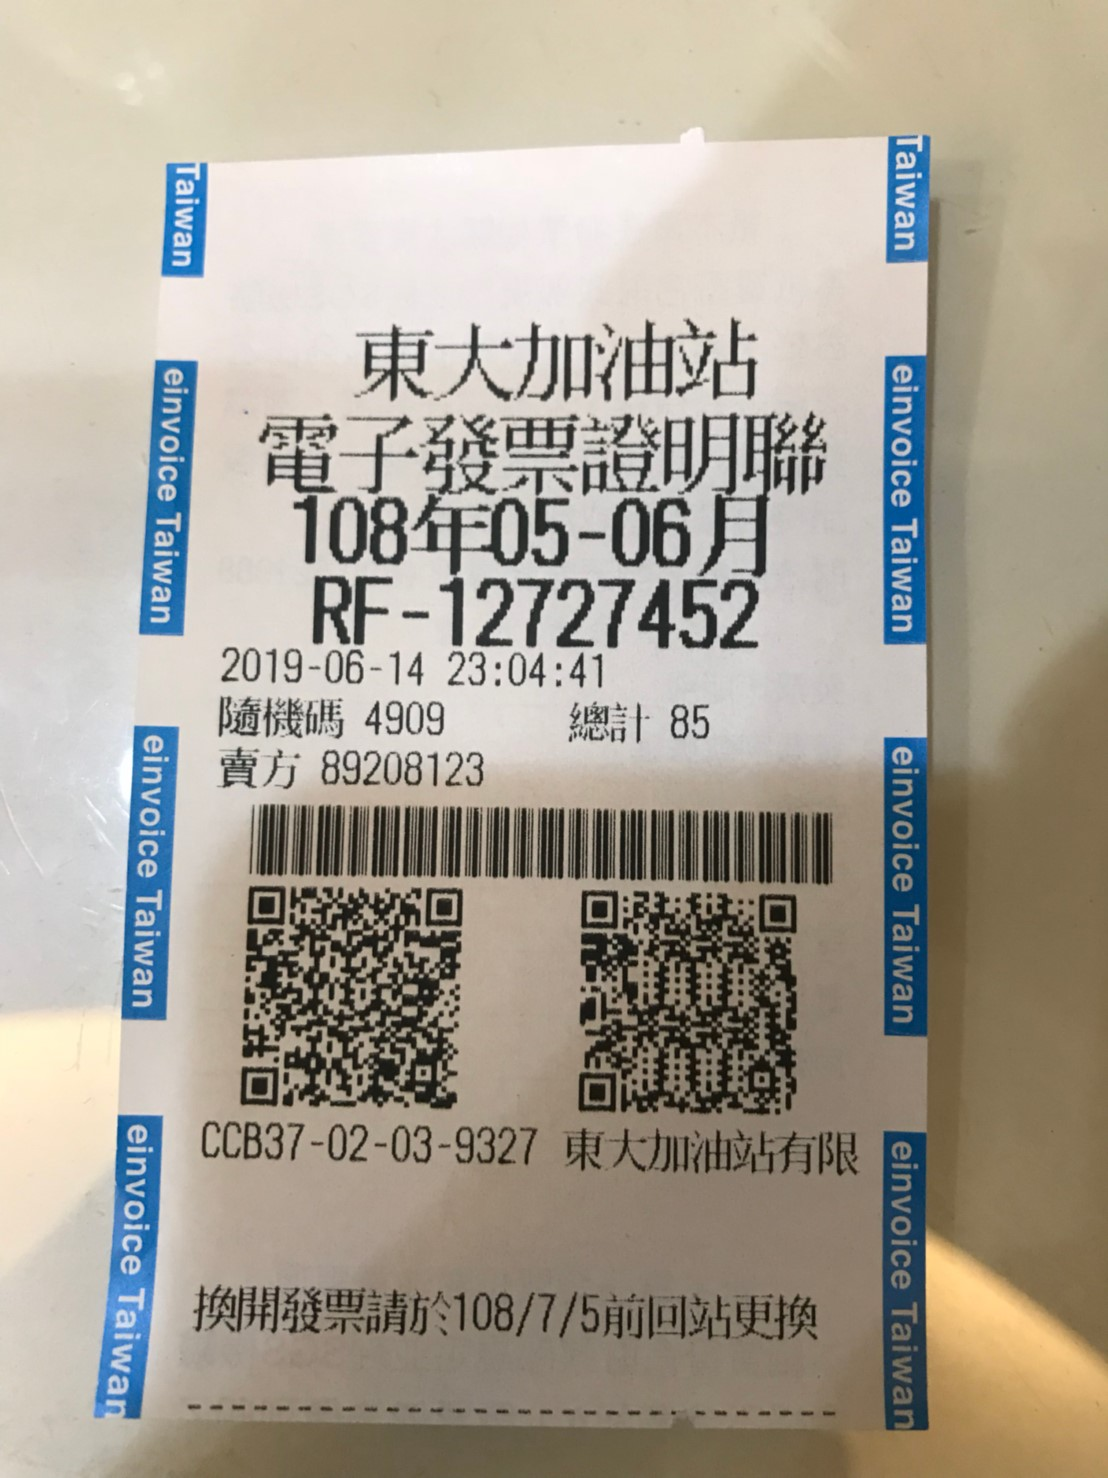Date_New: (294, 492, 772, 580)
Number_New: (441, 574, 766, 649)
